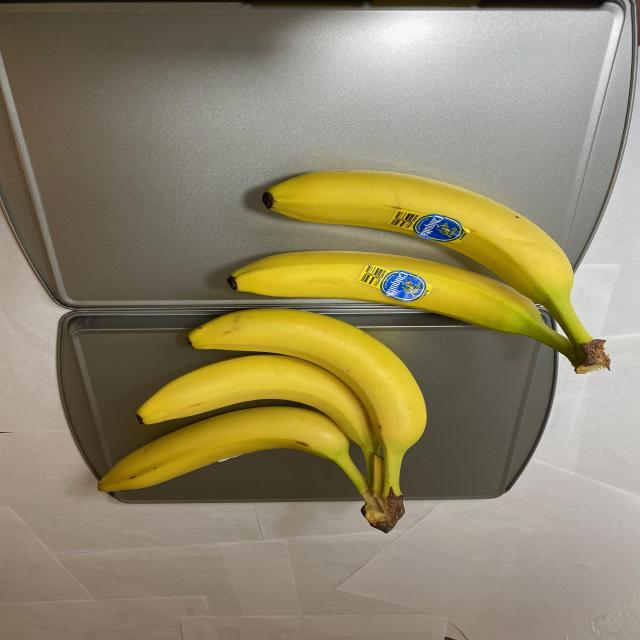banana: (220, 169, 616, 374), (91, 309, 434, 538)
